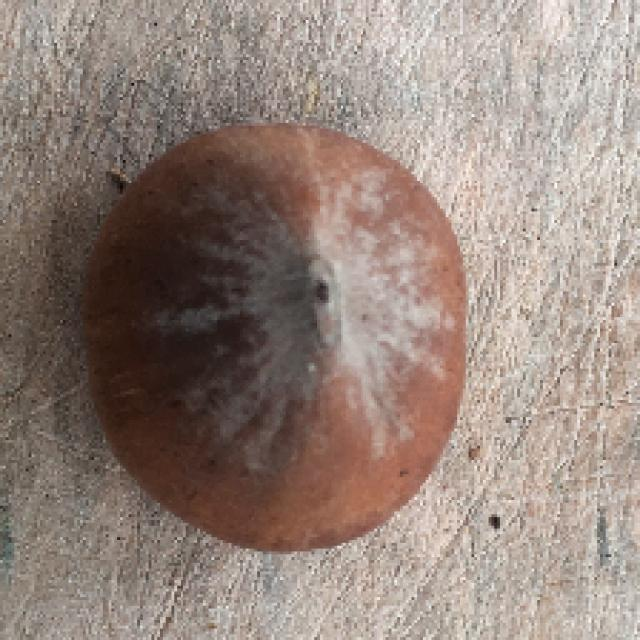qualityHazelnut: (77, 117, 479, 562)
